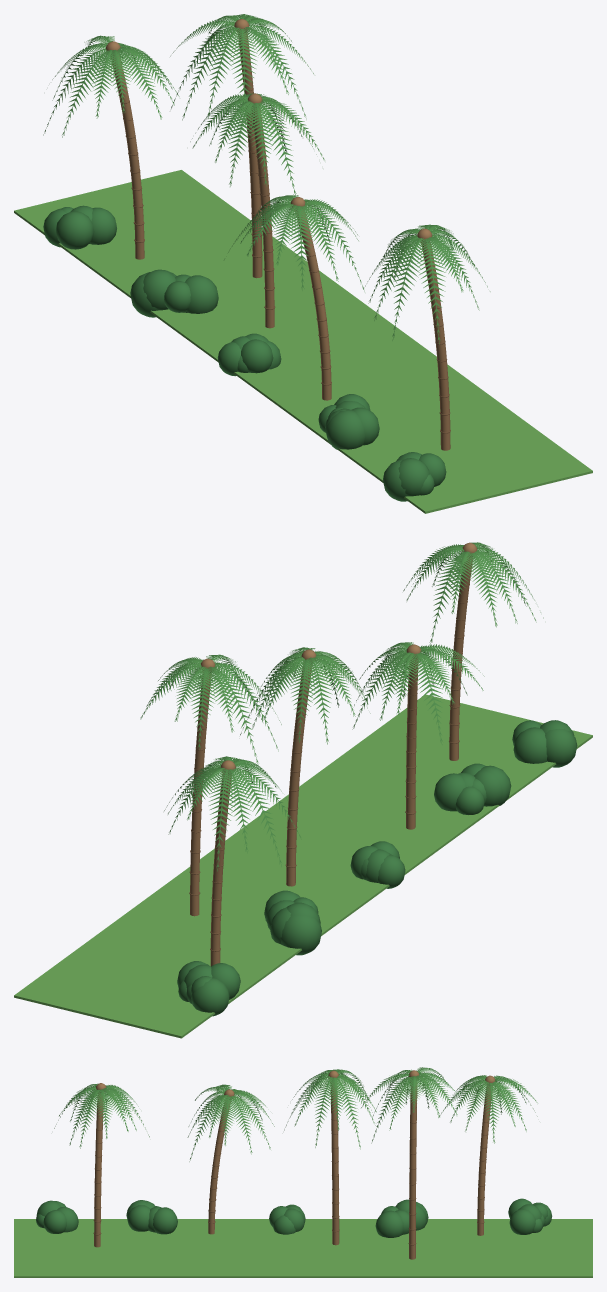
Rendered from exterior.glb.
The picture shows the model from 3 angles, top to bottom: view 1: azimuth 30°, elevation 25°; view 2: azimuth 150°, elevation 25°; view 3: azimuth 270°, elevation 25°; orthographic projection. The views are drawn at different scales.
Parts seen in each view (by area): view 1: ExteriorMesh; view 2: ExteriorMesh; view 3: ExteriorMesh.
Boxes of the visible parts, x1=… form: ExteriorMesh: x1=14, y1=14, x2=592, y2=513; ExteriorMesh: x1=14, y1=542, x2=592, y2=1038; ExteriorMesh: x1=14, y1=1067, x2=592, y2=1277.
Bounding box in the file's own units: 9.73 × 12.45 × 34.
